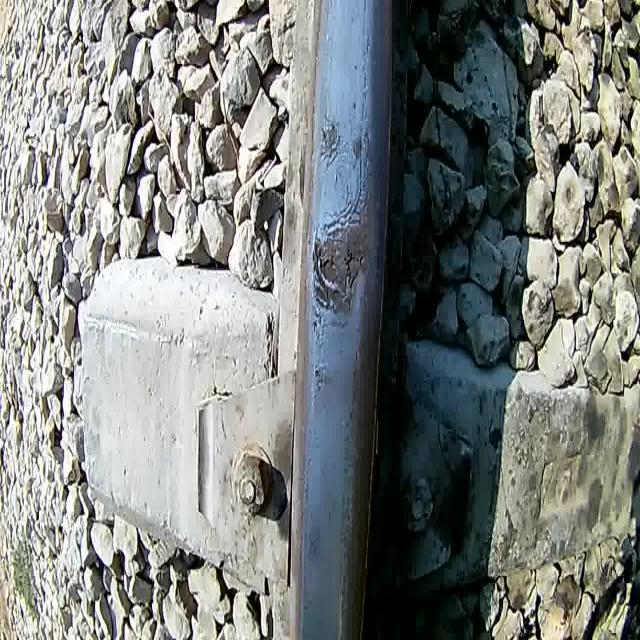Cracks: (319, 155, 376, 242), (318, 135, 345, 174)
Spallings: (308, 238, 367, 311)
Squats: (304, 205, 378, 347), (315, 114, 346, 170), (352, 132, 366, 160)
